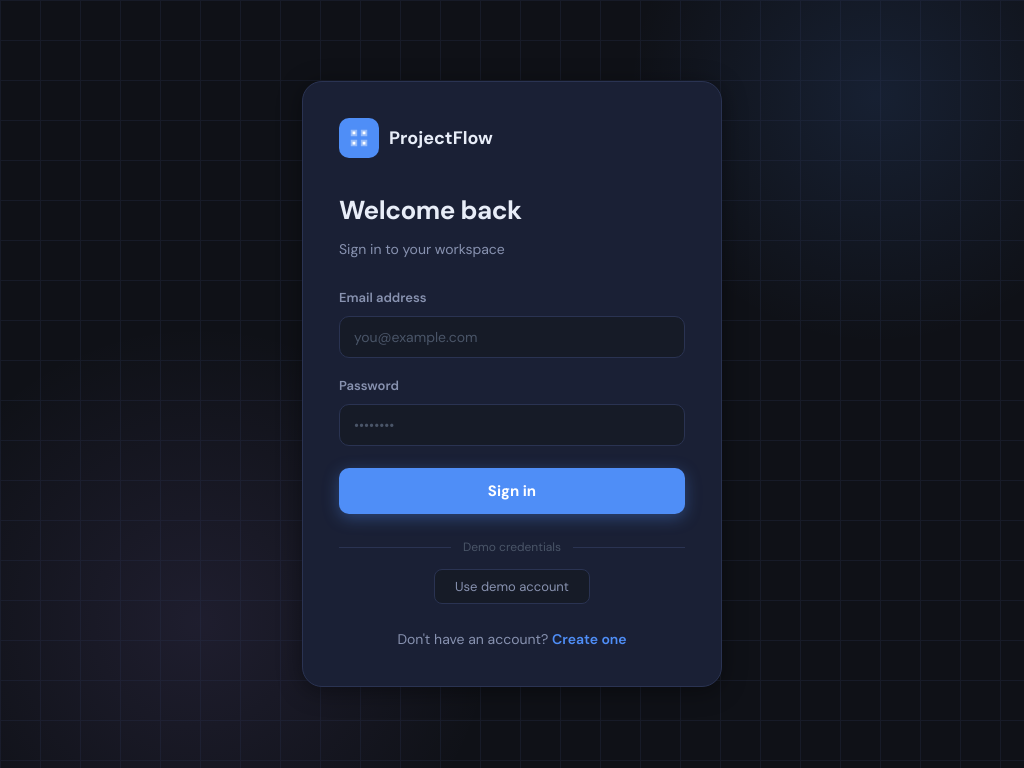
Login Page Tests › displays validation errors when fields are empty
Click the button "Sign in" at (512, 490), box [339, 468, 685, 514]
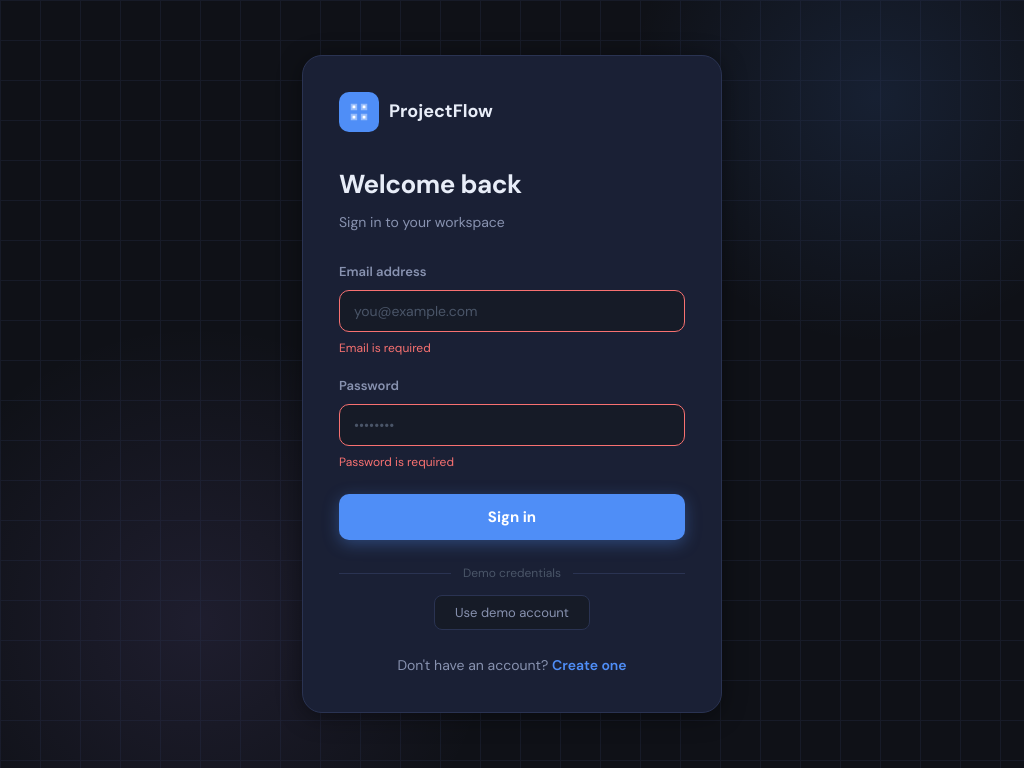
Expected: the text "Email is required" is shown, [339, 340, 431, 356]
Expected: the text "Password is required" is shown, [339, 454, 454, 470]
